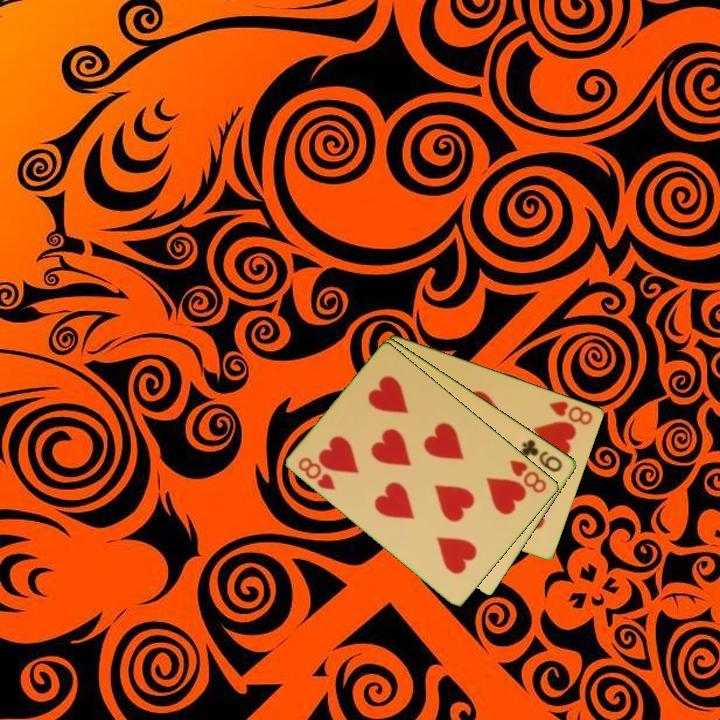8h: (506, 456, 550, 496), (295, 453, 339, 493), (545, 397, 596, 428)
9c: (518, 436, 566, 475)
